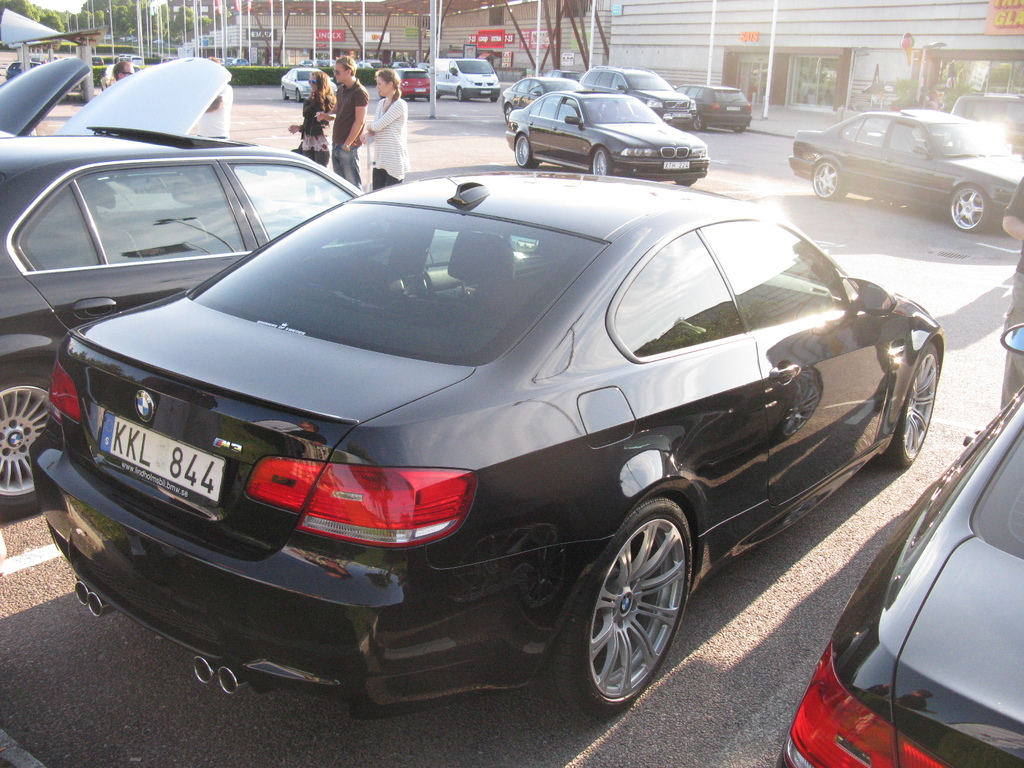Car: (26, 165, 945, 709), (0, 127, 524, 517), (773, 325, 1023, 767), (787, 104, 1023, 226), (508, 86, 713, 189), (70, 58, 224, 144), (0, 58, 101, 139), (576, 58, 698, 124), (680, 77, 758, 138), (956, 91, 1023, 151), (501, 78, 570, 117), (282, 60, 339, 106), (389, 63, 428, 94)
